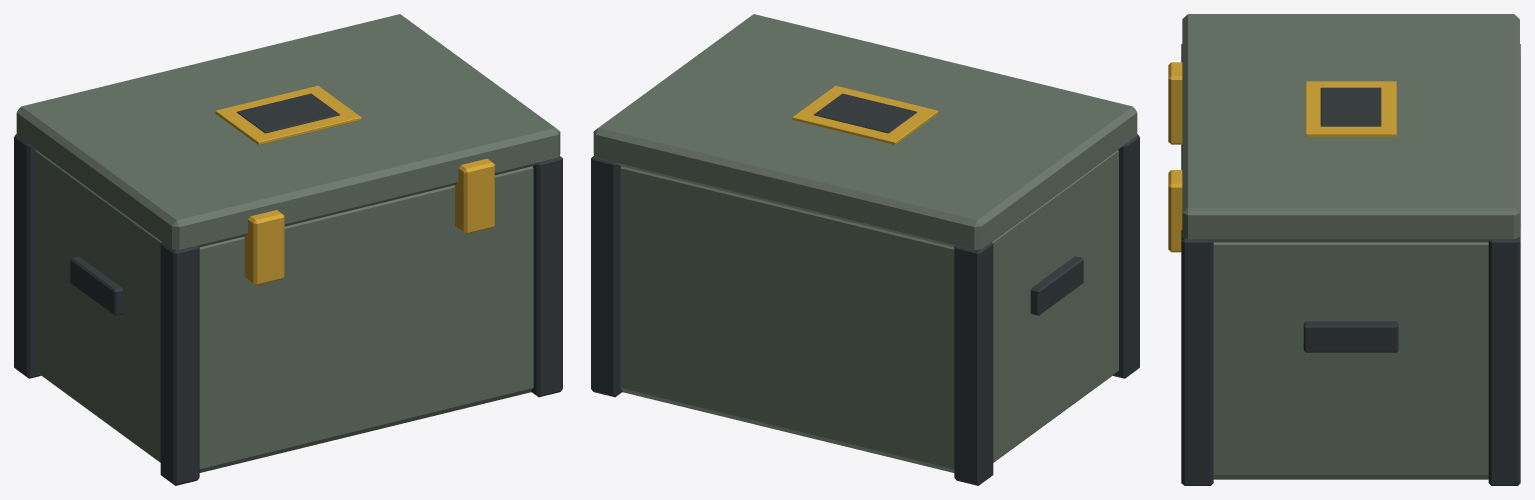
Rendered from BH_Searchable_Crate.glb.
3 renders of one model, left to right at view 1: azimuth 30°, elevation 25°; view 2: azimuth 150°, elevation 25°; view 3: azimuth 270°, elevation 25°, orthographic. The views are drawn at different scales.
Parts seen in each view (by area): view 1: BH_Searchable_Crate_RenderMesh; view 2: BH_Searchable_Crate_RenderMesh; view 3: BH_Searchable_Crate_RenderMesh.
Part boxes in pixels (left/top/right/bottom): BH_Searchable_Crate_RenderMesh: left=14, top=14, right=562, bottom=485; BH_Searchable_Crate_RenderMesh: left=591, top=14, right=1139, bottom=485; BH_Searchable_Crate_RenderMesh: left=1168, top=14, right=1520, bottom=485.
Size of what is drawn, in the model's own units: 1.25 by 0.818 by 0.93.
